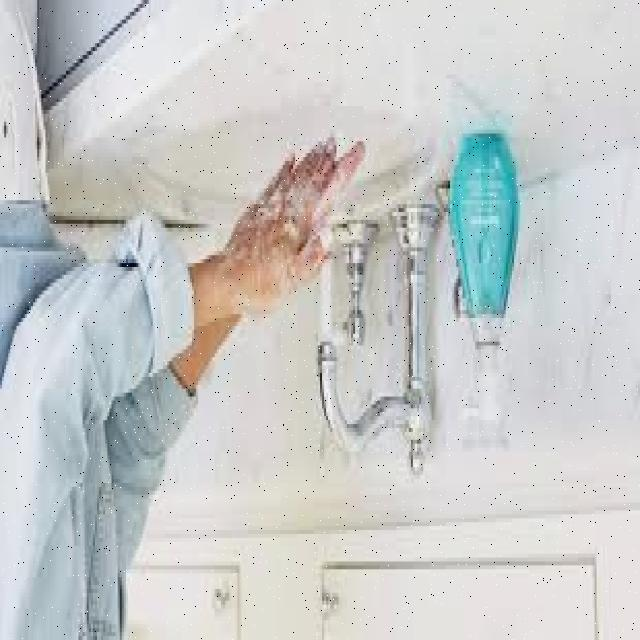liquid soap: (448, 118, 526, 466)
